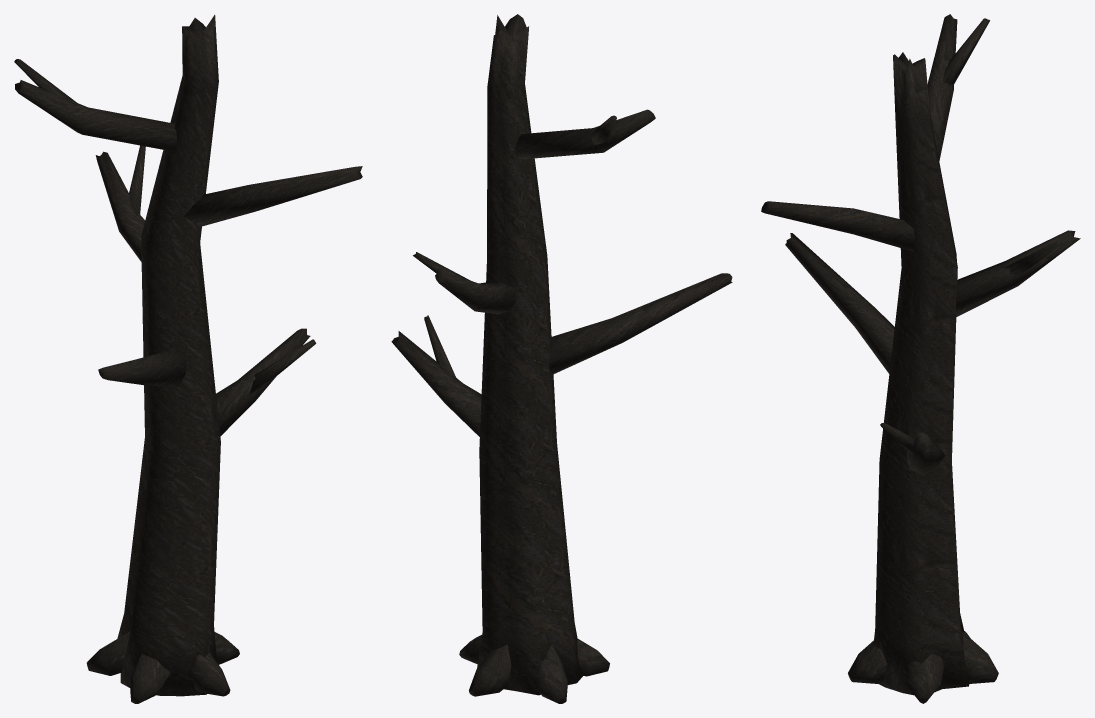
The model's file is area4-charred-trunk-a.glb.
The picture shows the model from 3 angles, left to right: view 1: azimuth 30°, elevation 25°; view 2: azimuth 150°, elevation 25°; view 3: azimuth 270°, elevation 25°; orthographic projection. The views are drawn at different scales.
Visible parts, largest first — view 1: A04_Scorched_Trunk_A; view 2: A04_Scorched_Trunk_A; view 3: A04_Scorched_Trunk_A.
Part boxes in pixels (<box>): A04_Scorched_Trunk_A: <box>14,14,362,703</box>; A04_Scorched_Trunk_A: <box>391,14,732,703</box>; A04_Scorched_Trunk_A: <box>761,14,1080,703</box>.
Bounding box in the file's own units: 2.31 × 5.2 × 2.37.
Materials: 1 (1 with a texture image).
